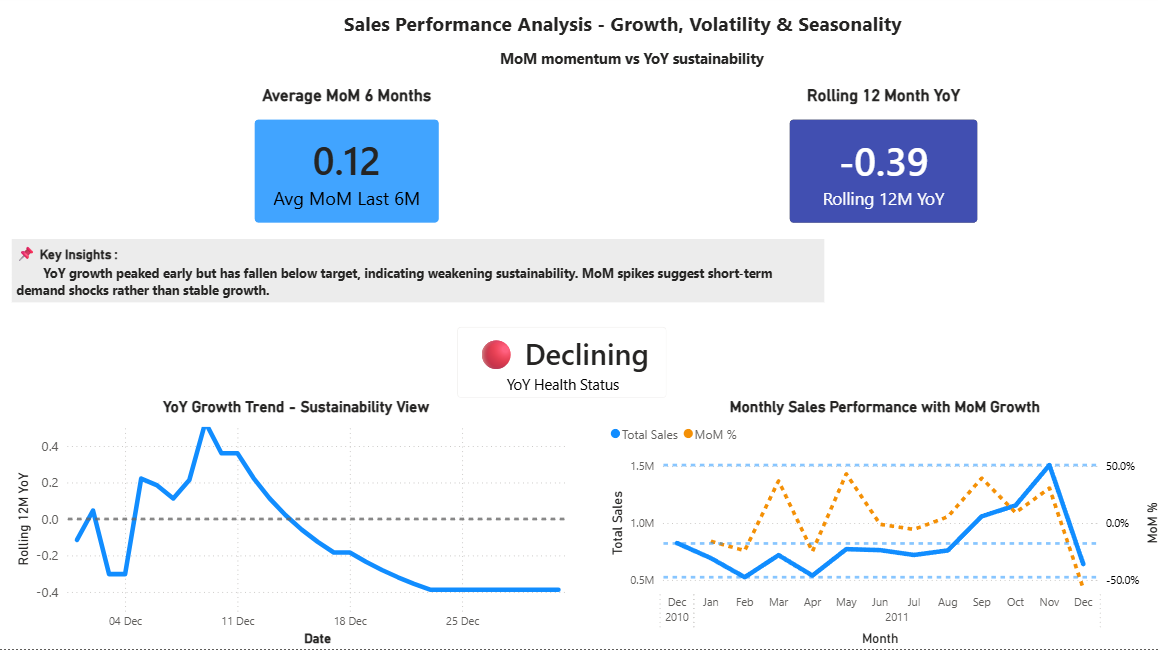

The dashboard page shown, as its layout file describes it:
{"tool":"powerbi","page":{"name":"Page 2","canvas":[1280,720],"ordinal":1},"visuals":[{"type":"lineChart","title":"Monthly Sales Performance with MoM Growth","fields":{"Y":["Online Retail.Total Sales"],"Y2":["Online Retail.MoM %"],"Category":["Calender.Year","Calender.Month"]},"box":[666.9,443.2,613.4,277.2],"z":0},{"type":"lineChart","title":"YoY Growth Trend - Sustainability View","fields":{"Y":["Online Retail.Rolling 12M YoY"],"Category":["Calender.Date"]},"box":[15.1,443.2,624.4,277.2],"z":1000},{"type":"textbox","box":[374.6,12.3,635.3,42.5],"z":2000},{"type":"textbox","box":[546.1,54.9,329.3,32.9],"z":3000},{"type":"textbox","box":[15.1,269,891.9,70],"z":4000},{"type":"cardVisual","title":"Average MoM 6 Months","fields":{"Data":["Online Retail.Avg MoM Last 6M"]},"box":[264.8,100.2,236,168.8],"z":5000},{"type":"cardVisual","title":"Rolling 12 Month YoY","fields":{"Data":["Online Retail.Rolling 12M YoY"]},"box":[852.1,100.2,240.1,168.8],"z":6000},{"type":"cardVisual","fields":{"Data":["Online Retail.YoY Health Status"]},"box":[487.1,348.5,264.8,112.5],"z":7000}]}

Visuals, with their boxes in screenshot pixels (x1, y1, x2, y2), scaled from the page's 1280x720 canvas onto the 1158x650 screenshot:
"Monthly Sales Performance with MoM Growth" lineChart: [603,400,1157,649]
"YoY Growth Trend - Sustainability View" lineChart: [14,400,579,649]
textbox: [339,11,914,49]
textbox: [494,50,792,79]
textbox: [14,243,821,306]
"Average MoM 6 Months" cardVisual: [240,90,453,243]
"Rolling 12 Month YoY" cardVisual: [771,90,988,243]
cardVisual - Online Retail.YoY Health Status: [441,315,680,416]
